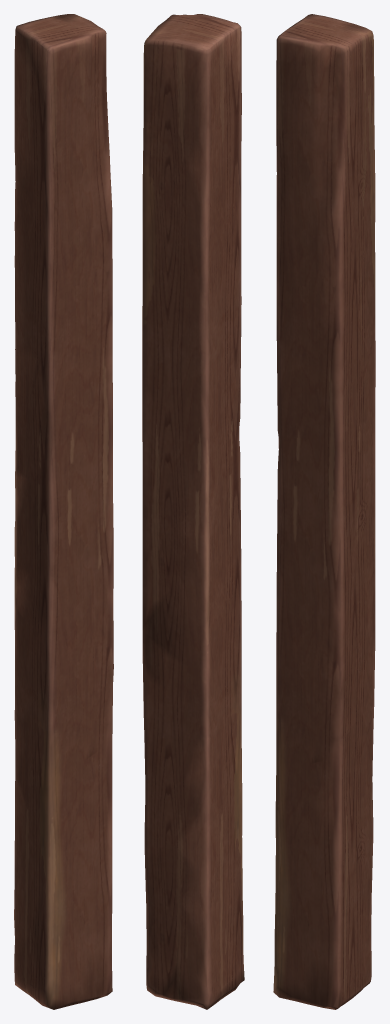
File: SM_Beams_01.fbx
3 views of the same model, side by side, from view 1: azimuth 30°, elevation 25°; view 2: azimuth 150°, elevation 25°; view 3: azimuth 330°, elevation 25° (orthographic).
Parts seen in each view (by area): view 1: SM_Beams_01_LOD0; view 2: SM_Beams_01_LOD0; view 3: SM_Beams_01_LOD0.
Boxes of the visible parts, x1,y1,x2,y2 form: SM_Beams_01_LOD0: (14,14,113,1009); SM_Beams_01_LOD0: (142,14,244,1009); SM_Beams_01_LOD0: (273,14,375,1009).
Bounding box in the file's own units: 19.83 × 19.26 × 268.
Materials: 1 (1 with a texture image).
